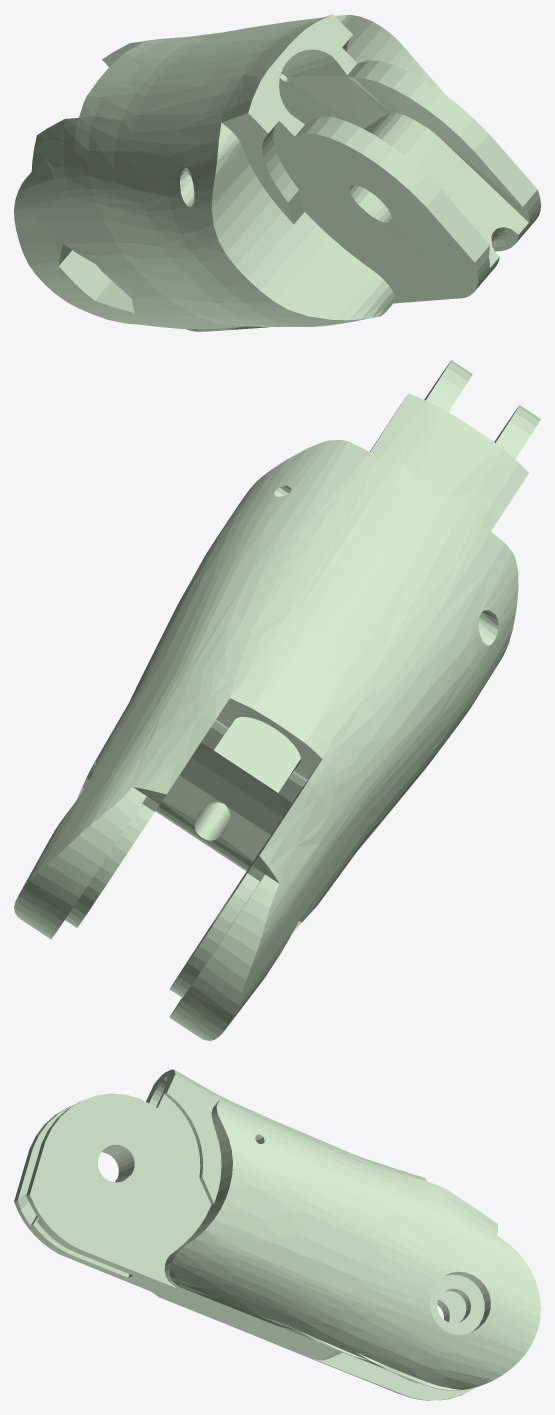
Rendered from i02_rightHand_majeurePhal_visual.obj.balanced.glb.
3 views of the same model, one above another, from view 1: azimuth 30°, elevation 25°; view 2: azimuth 150°, elevation 25°; view 3: azimuth 270°, elevation 25° (orthographic). The views are drawn at different scales.
Size of the model in its own units: 0.2038 by 0.3366 by 0.5012.
